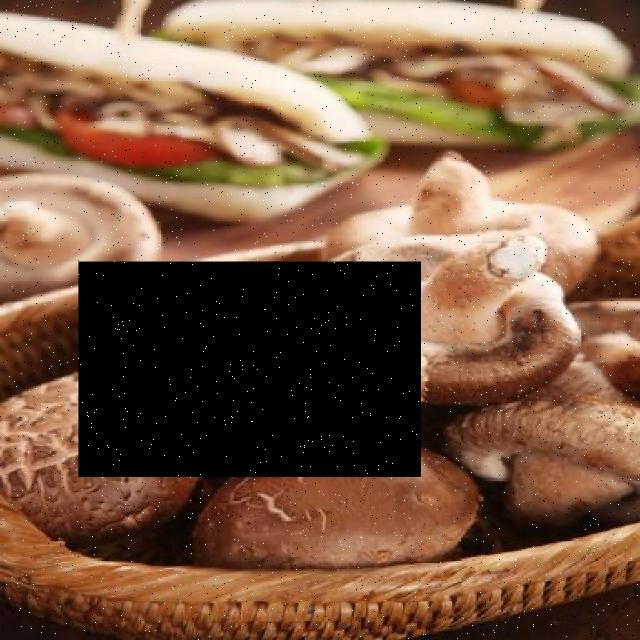Mushroom: (78, 261, 420, 477)
